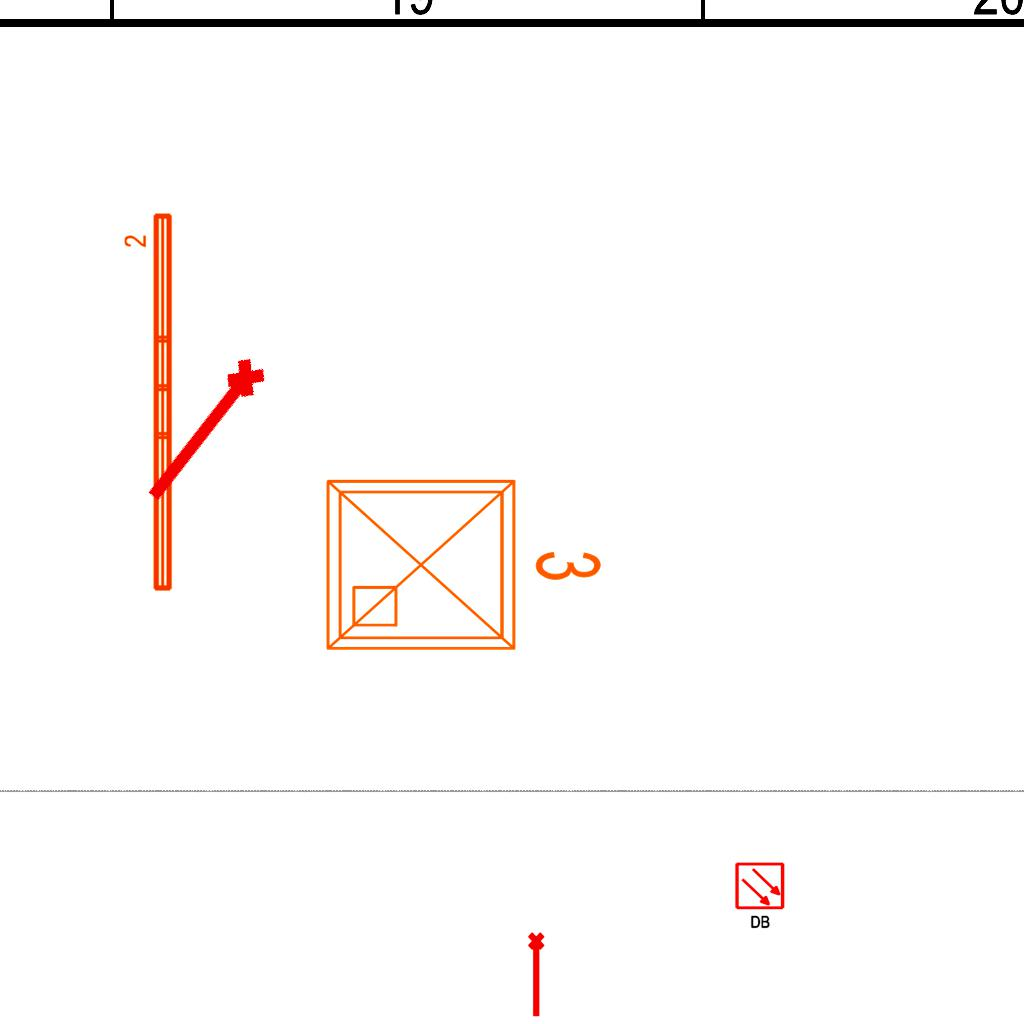ASR_Ansaugoeffnung: (133, 349, 279, 517), (526, 931, 549, 1019)
Ambulanz_Pendelleuchte_LED: (122, 209, 178, 596)
DB_Melder_in_Doppelboden_mit_Revisionsoeffnung_mind_40_x_40_cm: (732, 859, 789, 933)
Einbaudownlights_LED_Konferenzraeume: (312, 457, 612, 665)
